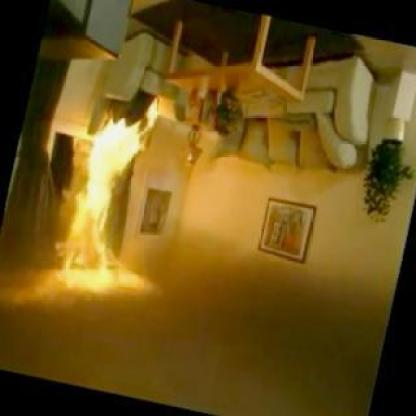Fire: (46, 110, 188, 320)
